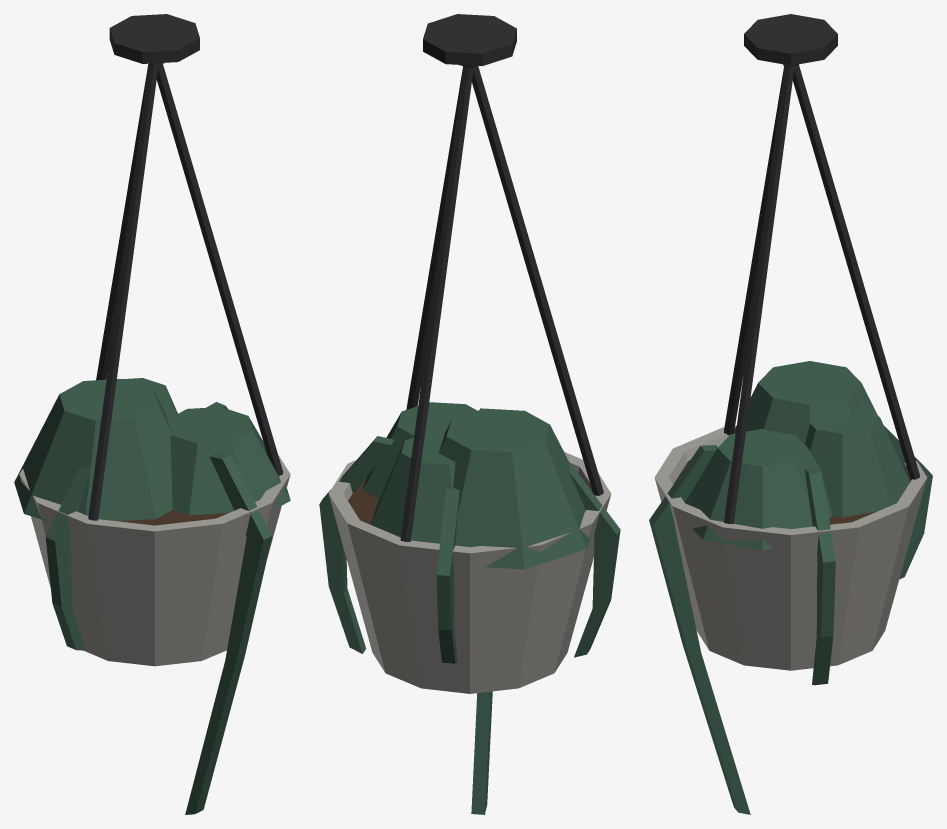
The model's file is FN_Planter_Hanging.obj.
The picture shows the model from 3 angles, left to right: view 1: azimuth 30°, elevation 25°; view 2: azimuth 150°, elevation 25°; view 3: azimuth 270°, elevation 25°; orthographic projection. The views are drawn at different scales.
Visible parts, largest first — view 1: FN_Planter_Hanging; view 2: FN_Planter_Hanging; view 3: FN_Planter_Hanging.
Boxes of the visible parts, x1,y1,x2,y2 form: FN_Planter_Hanging: (14, 14, 290, 814); FN_Planter_Hanging: (319, 14, 620, 814); FN_Planter_Hanging: (649, 14, 932, 814).
Size of the model in its own units: 0.3089 by 0.905 by 0.3017.
1 material, 1 textured.
